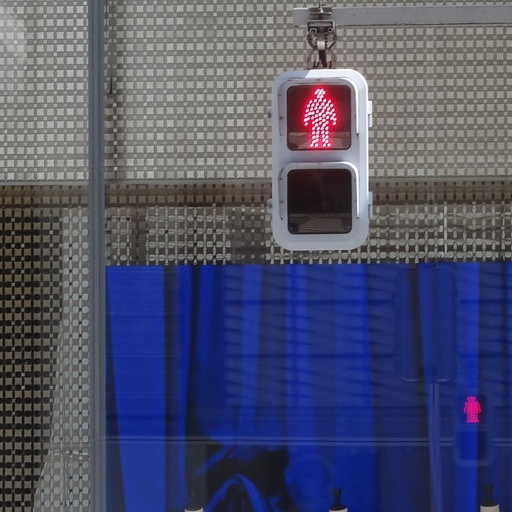Pedestrian_Signal_Red: (271, 64, 368, 247)
